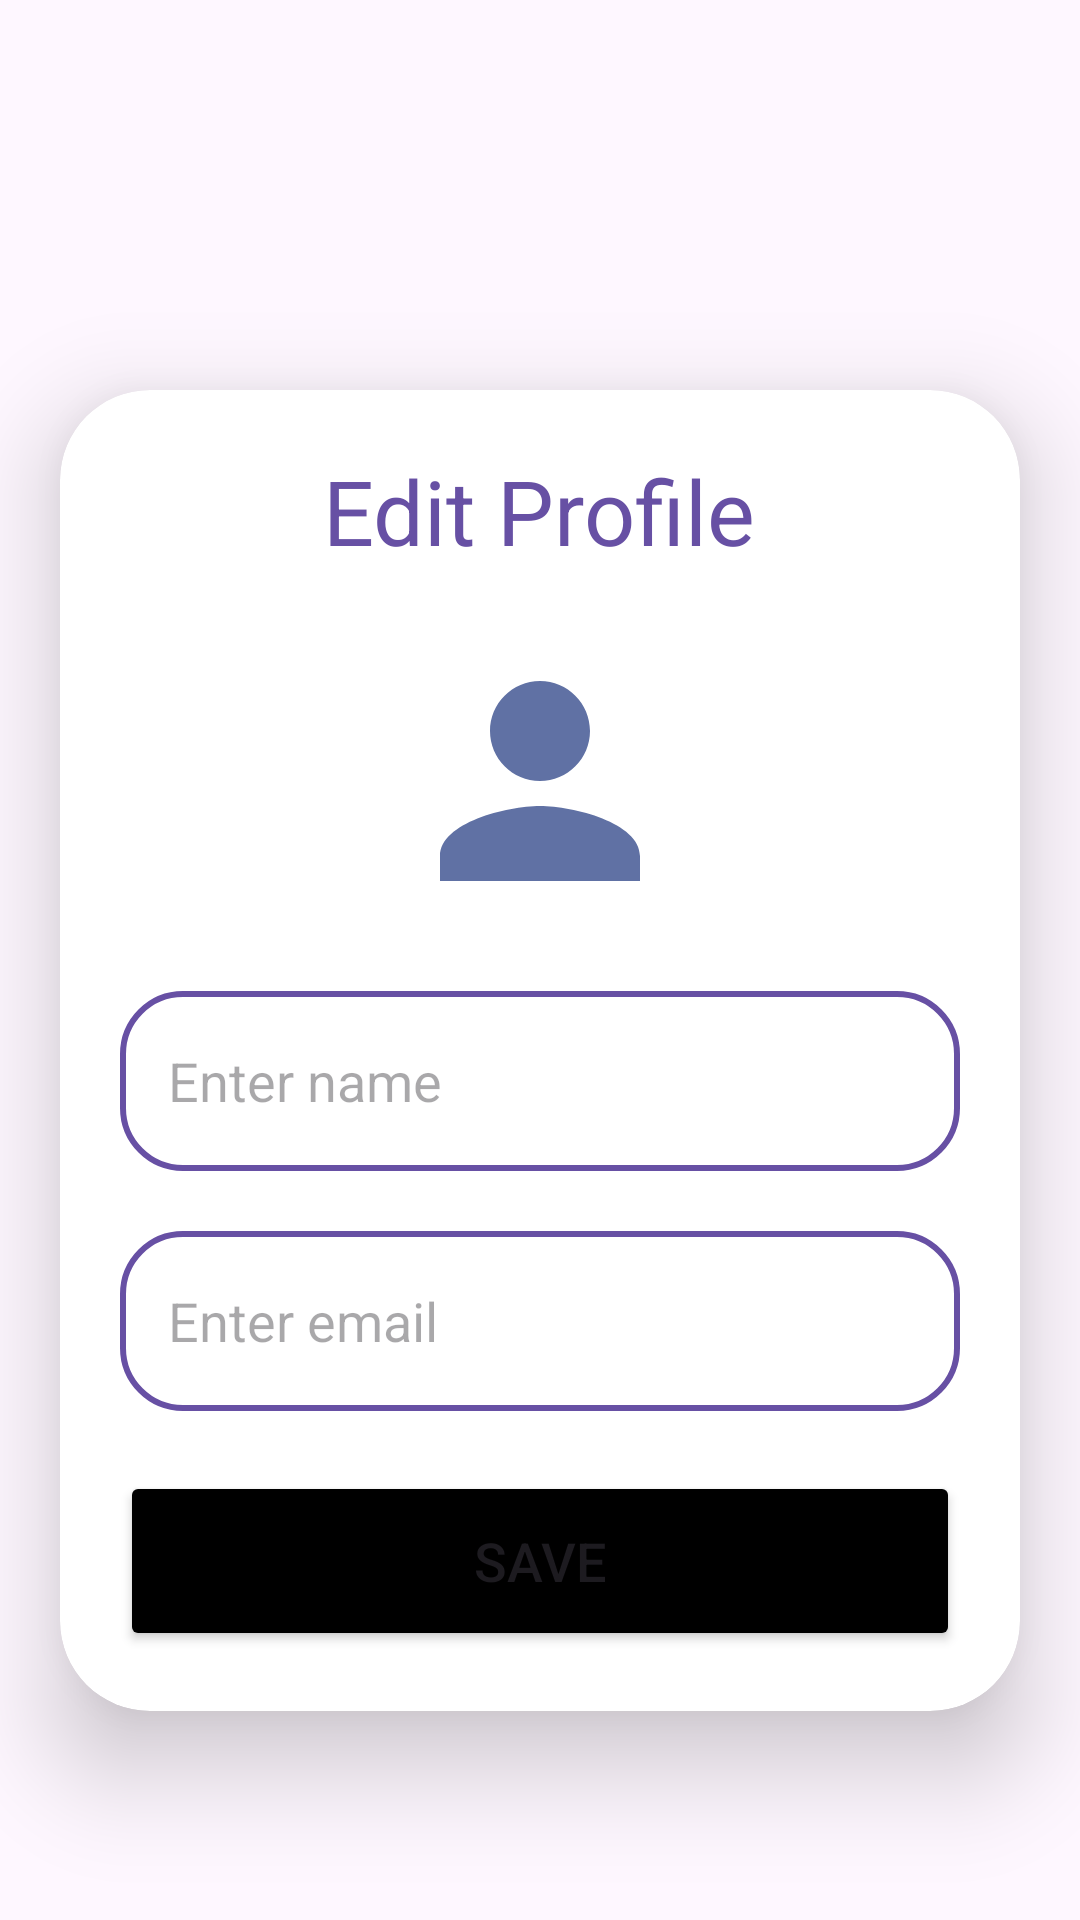

Named icons in this screenshot (1080w x 1920h) and their centers, (x=x, y=y):
person: (x=540, y=781)
